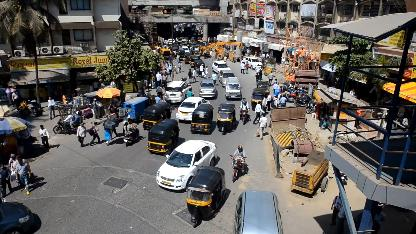auto-rikshaw: (186, 164, 226, 226), (148, 118, 180, 154), (142, 102, 172, 130), (190, 104, 214, 134), (216, 102, 236, 136)
bike: (232, 144, 248, 184), (123, 122, 141, 146), (238, 98, 250, 126)
car: (156, 141, 218, 190), (164, 80, 190, 104), (224, 78, 242, 100), (198, 79, 218, 98)
